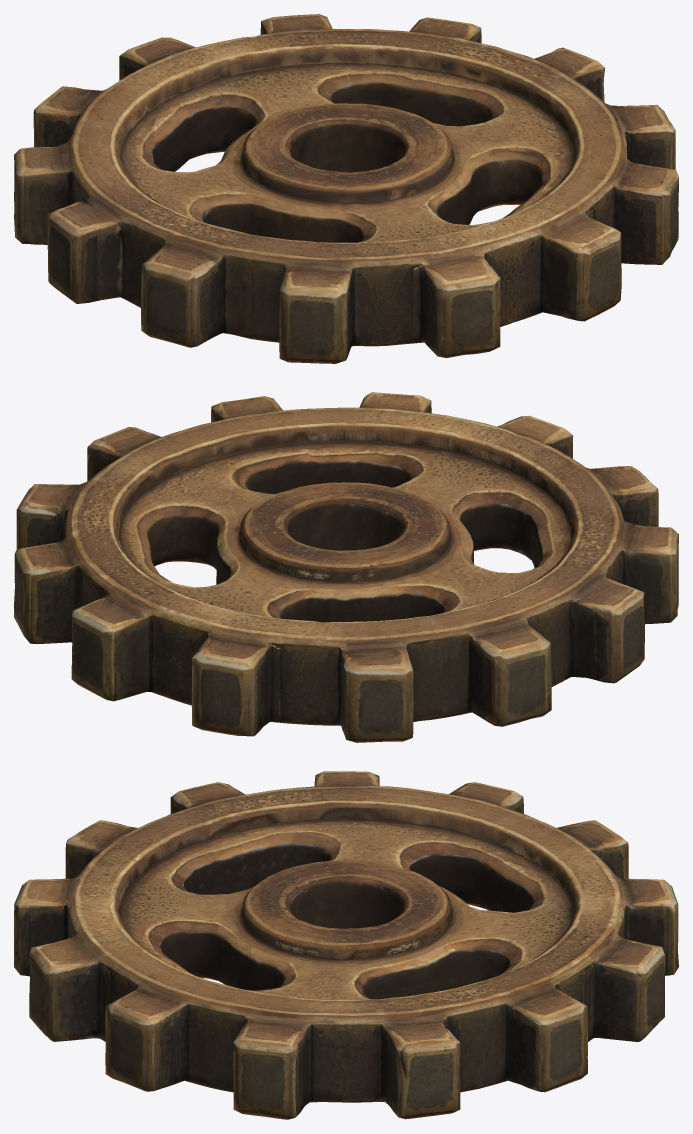
The model's file is Prop_GearSmall.fbx.
3 renders of one model, top to bottom at view 1: azimuth 30°, elevation 25°; view 2: azimuth 150°, elevation 25°; view 3: azimuth 270°, elevation 25°, orthographic.
Parts seen in each view (by area): view 1: texture_mapping; view 2: texture_mapping; view 3: texture_mapping.
Boxes of the visible parts, x1,y1,x2,y2 form: texture_mapping: (14,14,678,363); texture_mapping: (14,392,678,742); texture_mapping: (14,771,678,1119).
Size of the model in its own units: 0.9899 by 0.9979 by 0.1451.
Materials: 1 (1 with a texture image).
